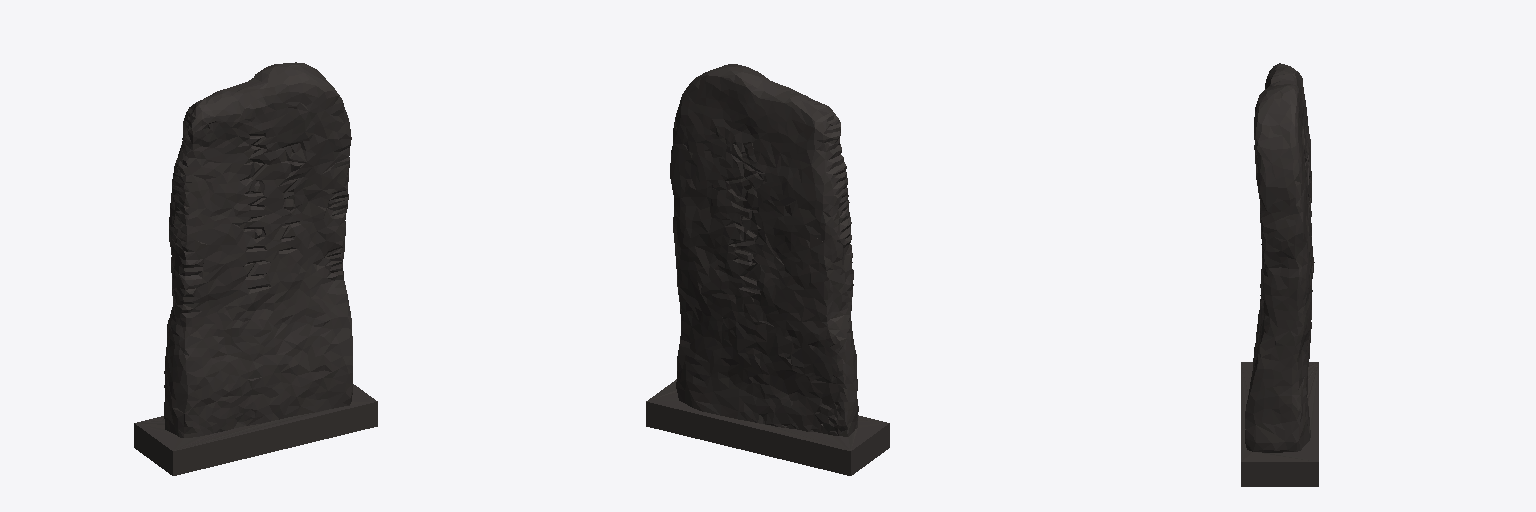
File: decimated_standing_stone.obj
3 renders of one model, left to right at view 1: azimuth 30°, elevation 25°; view 2: azimuth 150°, elevation 25°; view 3: azimuth 270°, elevation 25°, orthographic.
Parts seen in each view (by area): view 1: sutton-hoo-room-devon-stela; view 2: sutton-hoo-room-devon-stela; view 3: sutton-hoo-room-devon-stela.
Boxes of the visible parts, x1,y1,x2,y2 form: sutton-hoo-room-devon-stela: [134, 62, 377, 475]; sutton-hoo-room-devon-stela: [646, 64, 889, 475]; sutton-hoo-room-devon-stela: [1241, 63, 1318, 486].
Bounding box in the file's own units: 15.37 × 25.99 × 5.06.